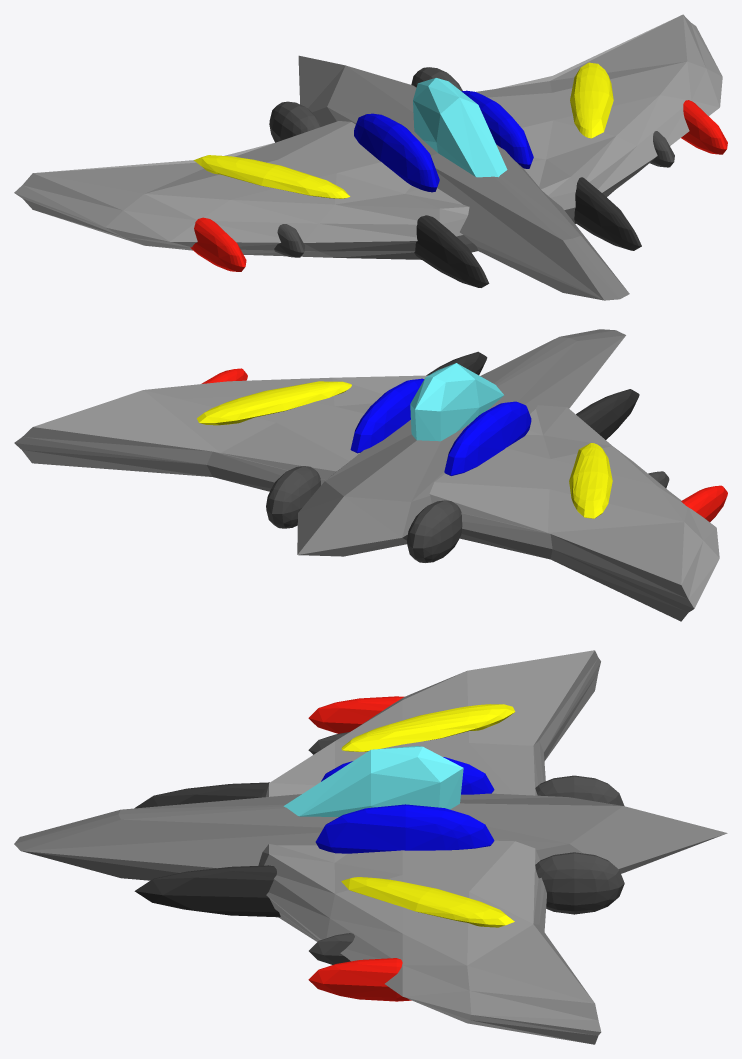
File: H_ziki.obj
3 views of the same model, one above another, from view 1: azimuth 30°, elevation 25°; view 2: azimuth 150°, elevation 25°; view 3: azimuth 270°, elevation 25° (orthographic). The views are drawn at different scales.
Parts seen in each view (by area): view 1: 立方体.002; view 2: 立方体.002; view 3: 立方体.002.
Boxes of the visible parts, box(x1,y1,x2,y2) form: 立方体.002: box(14, 14, 727, 300); 立方体.002: box(14, 329, 727, 621); 立方体.002: box(14, 650, 727, 1044).
Bounding box in the file's own units: 5.77 × 1.01 × 4.7.
Materials: 1 (1 with a texture image).
